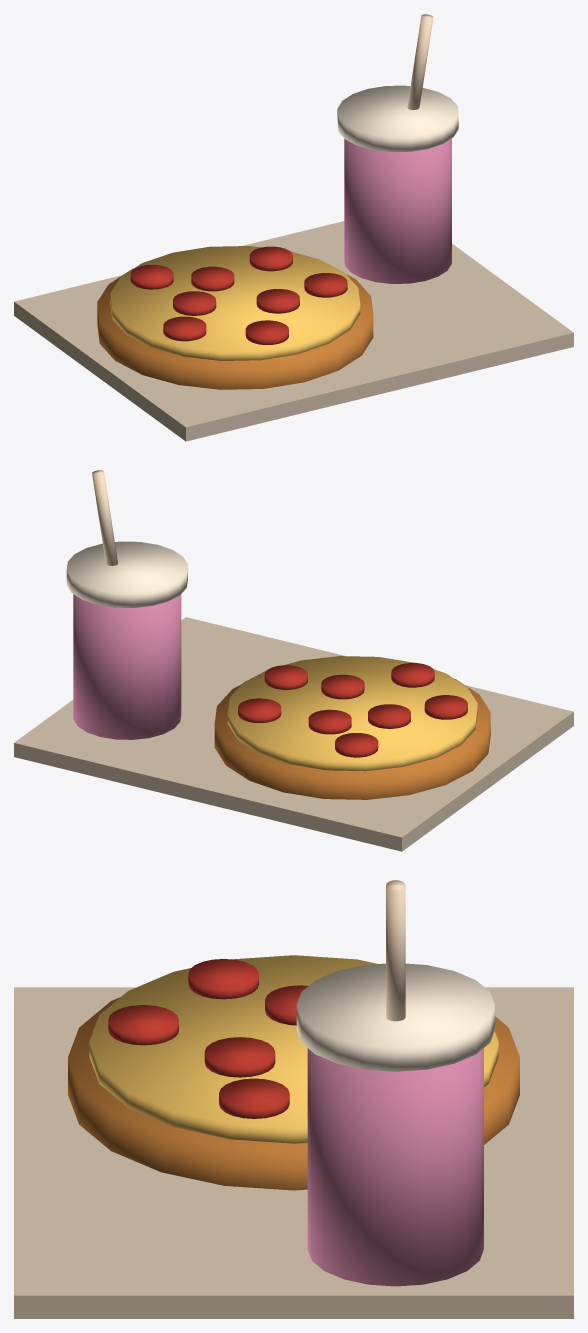
The model's file is pizza-combo.glb.
3 renders of one model, top to bottom at view 1: azimuth 30°, elevation 25°; view 2: azimuth 150°, elevation 25°; view 3: azimuth 270°, elevation 25°, orthographic. The views are drawn at different scales.
Parts seen in each view (by area): view 1: Combo tray, Mozzarella, Cup, Golden crust, Lid, Straw, Pepperoni, Pepperoni.003, Pepperoni.006, Pepperoni.007, Pepperoni.002, Pepperoni.005 (+2 smaller); view 2: Combo tray, Mozzarella, Cup, Golden crust, Lid, Straw, Pepperoni, Pepperoni.001, Pepperoni.004, Pepperoni.007, Pepperoni.003, Pepperoni.006 (+2 smaller); view 3: Combo tray, Cup, Mozzarella, Lid, Golden crust, Straw, Pepperoni.001, Pepperoni.006, Pepperoni.004, Pepperoni.007, Pepperoni.002.
Part boxes in pixels (box(x1,y1,x2,y2)): Combo tray: box(14, 221, 573, 441); Mozzarella: box(110, 246, 360, 360); Cup: box(344, 138, 451, 283); Golden crust: box(97, 269, 373, 389); Lid: box(337, 85, 458, 152); Straw: box(407, 14, 433, 109); Pepperoni: box(191, 266, 234, 291); Pepperoni.003: box(249, 246, 292, 271); Pepperoni.006: box(304, 273, 347, 297); Pepperoni.007: box(163, 316, 206, 341); Pepperoni.002: box(173, 291, 216, 315); Pepperoni.005: box(130, 264, 173, 289); Combo tray: box(14, 617, 573, 851); Mozzarella: box(227, 656, 477, 771); Cup: box(73, 594, 181, 739); Golden crust: box(214, 679, 490, 799); Lid: box(66, 541, 187, 607); Straw: box(92, 470, 117, 565); Pepperoni: box(308, 709, 351, 734); Pepperoni.001: box(321, 674, 364, 699); Pepperoni.004: box(391, 663, 434, 687); Pepperoni.007: box(424, 695, 467, 719); Pepperoni.003: box(238, 698, 281, 722); Pepperoni.006: box(264, 665, 307, 689); Combo tray: box(14, 987, 573, 1318); Cup: box(307, 1048, 483, 1286); Mozzarella: box(89, 955, 498, 1143); Lid: box(296, 963, 494, 1071); Golden crust: box(68, 997, 519, 1190); Straw: box(386, 880, 405, 1021); Pepperoni.001: box(204, 1037, 275, 1077); Pepperoni.006: box(219, 1078, 289, 1118); Pepperoni.004: box(108, 1005, 178, 1045); Pepperoni.007: box(188, 959, 258, 999); Pepperoni.002: box(265, 985, 307, 1025).
Bounding box in the file's own units: 0.86 × 0.5349 × 0.66.
